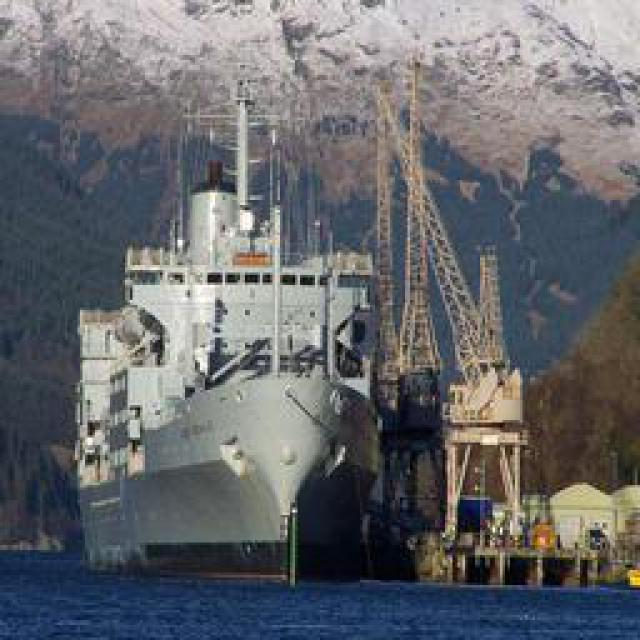Ship: (66, 86, 398, 580)
